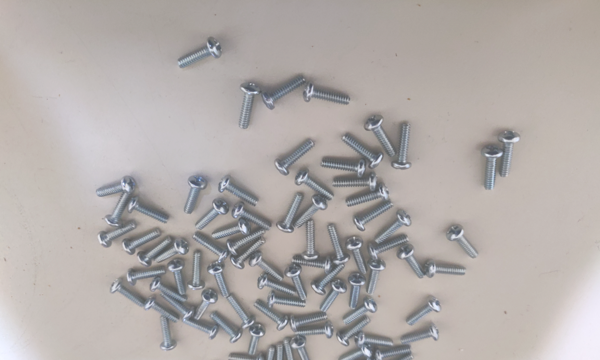shortscrew: (262, 75, 306, 111), (275, 138, 315, 176), (176, 37, 222, 69), (342, 134, 384, 169), (365, 115, 398, 158), (230, 235, 267, 272), (218, 174, 260, 206), (376, 209, 412, 245), (294, 170, 335, 201), (353, 201, 394, 232), (293, 195, 329, 229), (304, 82, 352, 107), (192, 232, 230, 263), (253, 300, 291, 331), (337, 315, 372, 348), (368, 234, 410, 261), (127, 196, 169, 223), (277, 192, 304, 234), (248, 251, 285, 281), (498, 130, 521, 178), (311, 264, 345, 296), (448, 225, 479, 260), (407, 295, 442, 326), (111, 278, 147, 308), (195, 200, 229, 231), (122, 229, 161, 256), (227, 230, 266, 257), (138, 237, 173, 267), (226, 293, 255, 329), (342, 296, 378, 325), (482, 144, 504, 191), (97, 223, 136, 249), (150, 276, 189, 302), (346, 184, 390, 207), (398, 244, 426, 280), (320, 278, 348, 314), (210, 314, 244, 343), (160, 293, 195, 321), (240, 83, 261, 129), (321, 158, 367, 179), (392, 121, 411, 171), (328, 223, 350, 265), (345, 236, 368, 276), (184, 176, 208, 214), (292, 254, 334, 275), (212, 218, 252, 240), (207, 261, 230, 299), (183, 316, 219, 340), (257, 274, 298, 295), (145, 295, 178, 321), (104, 193, 129, 227), (400, 325, 440, 346), (154, 239, 189, 263), (96, 176, 137, 196), (284, 264, 306, 301), (126, 267, 166, 287), (302, 219, 321, 261), (334, 174, 377, 192), (194, 289, 218, 321), (424, 261, 468, 278), (366, 258, 386, 295), (188, 250, 206, 291), (355, 331, 395, 349), (290, 314, 327, 333), (295, 322, 334, 340), (167, 260, 186, 295), (267, 293, 306, 310), (348, 273, 366, 309), (159, 316, 177, 351), (248, 324, 266, 356), (337, 344, 373, 360), (290, 335, 311, 360), (283, 338, 301, 360), (228, 352, 266, 360), (272, 343, 288, 360), (258, 346, 277, 360), (379, 353, 414, 360), (339, 356, 376, 360)
